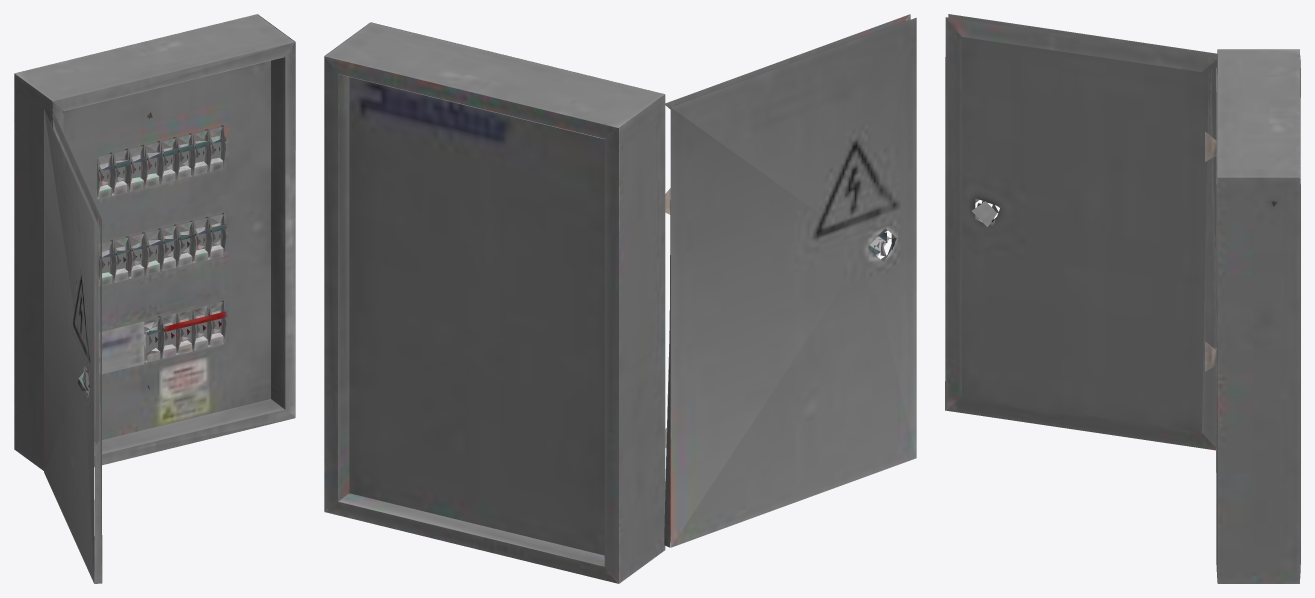
The model's file is power_box_01.glb.
The picture shows the model from 3 angles, left to right: view 1: azimuth 30°, elevation 25°; view 2: azimuth 150°, elevation 25°; view 3: azimuth 270°, elevation 25°; orthographic projection. The views are drawn at different scales.
Parts seen in each view (by area): view 1: power_box_01_box, power_box_01_door; view 2: power_box_01_box, power_box_01_door; view 3: power_box_01_door, power_box_01_box.
Part boxes in pixels (bbox=[...]): power_box_01_box: bbox=[14, 14, 295, 470]; power_box_01_door: bbox=[44, 109, 102, 583]; power_box_01_box: bbox=[324, 22, 665, 583]; power_box_01_door: bbox=[664, 14, 916, 547]; power_box_01_door: bbox=[945, 14, 1217, 450]; power_box_01_box: bbox=[1215, 49, 1300, 583].
Size of the model in its own units: 0.4569 by 0.5036 by 0.3994.
1 material, 1 textured.
